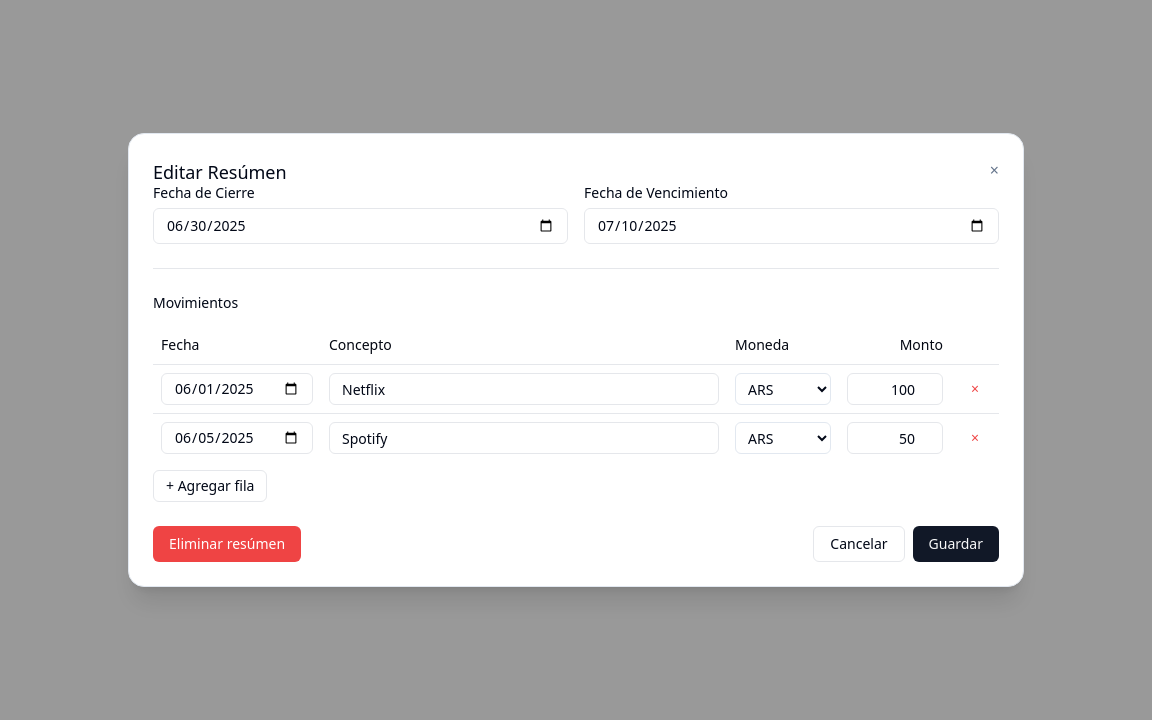
Scenario: EditStatementModal › edit mode › adds a new empty row when clicking + Agregar fila
Expected: the 1st field showing "Netflix" is shown, [329,373,719,405]
Click the button "+ Agregar fila": (210, 486) [153,470,267,502]
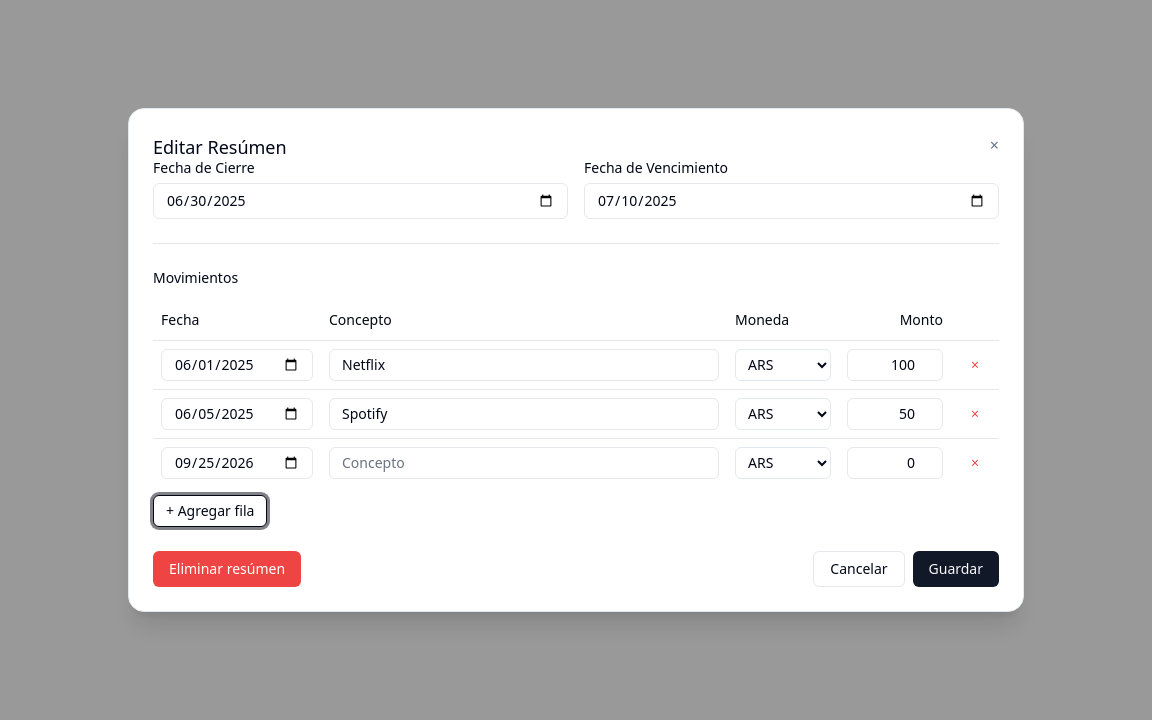
Expected: the number of fields with placeholder "Concepto" is 3, [329,349,719,381]; [329,398,719,430]; [329,447,719,479]
